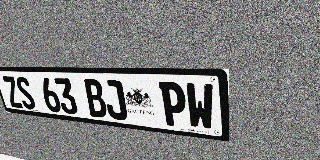3: (54, 78, 79, 115)
6: (38, 77, 63, 113)
B: (82, 79, 108, 118)
J: (101, 80, 128, 121)
P: (159, 82, 188, 128)
S: (14, 77, 37, 110)
W: (185, 83, 215, 131)
Z: (1, 76, 24, 108)
